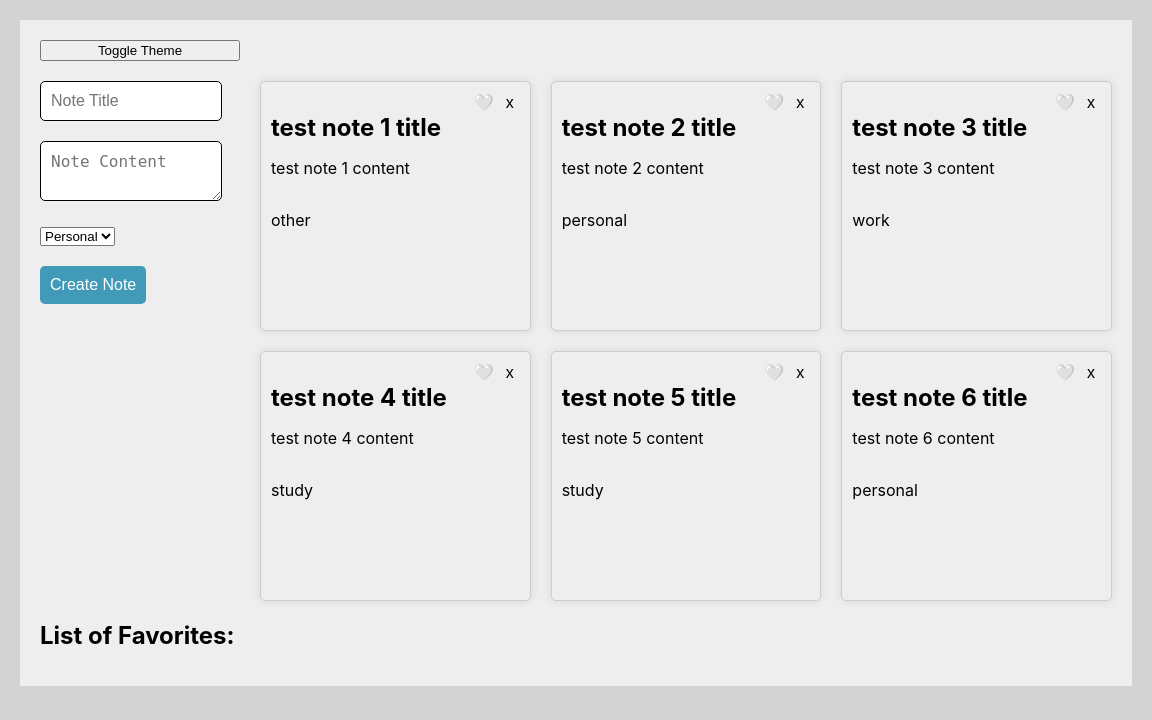
Test: test delete
Click the 1st button "x": (510, 102) [500,92,520,113]
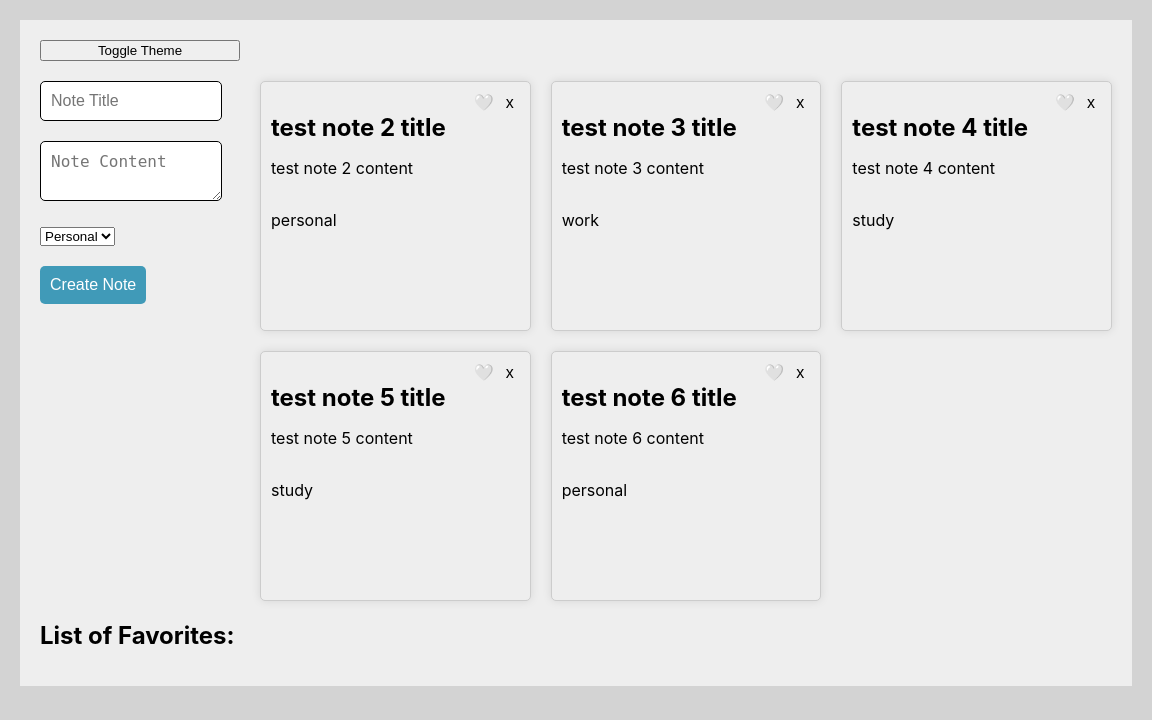
Expected: the heading "test note 1 title" is gone
Click the 1st button "x": (510, 102) [500,92,520,113]
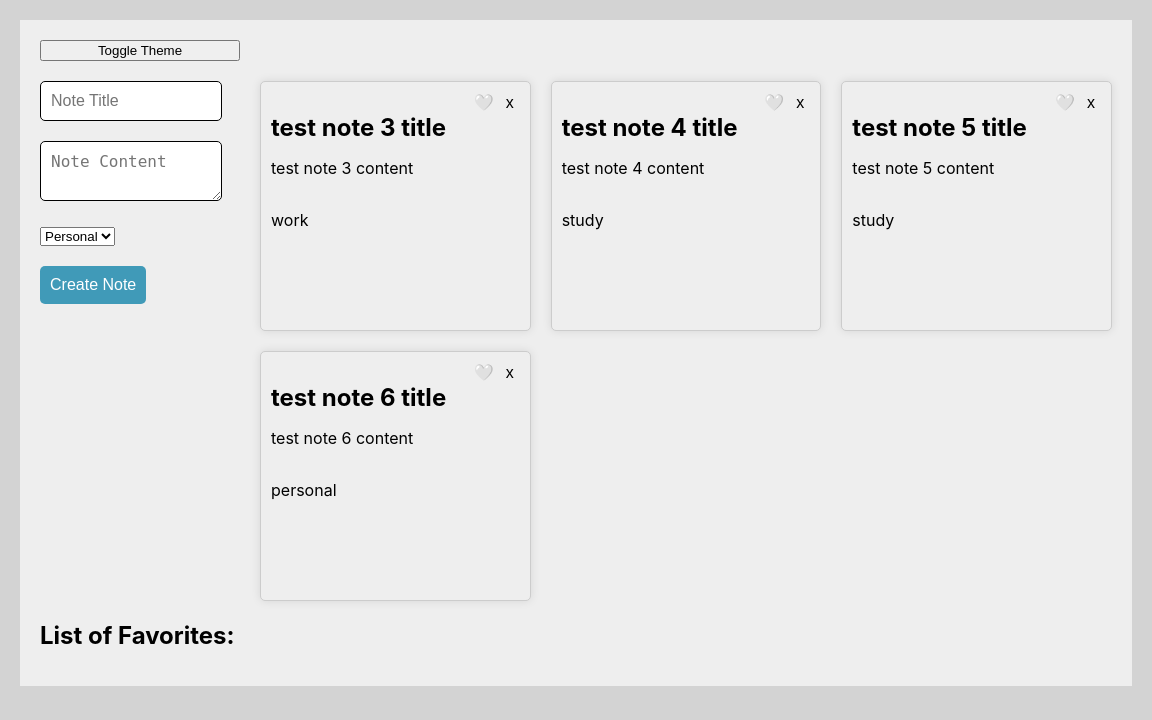
Expected: the heading "test note 2 title" is gone
